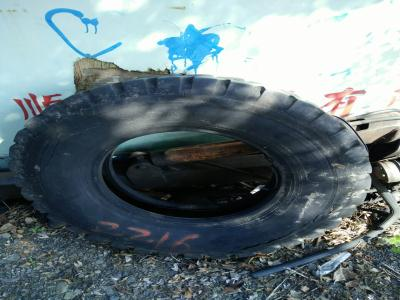tire: (8, 74, 377, 261)
